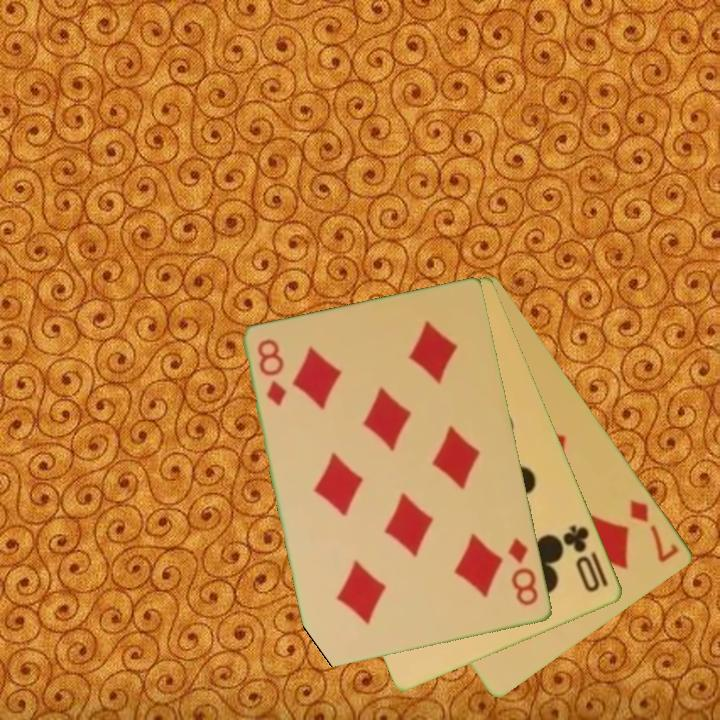10c: (559, 522, 612, 596)
7d: (626, 495, 682, 566)
8d: (505, 535, 542, 609), (254, 335, 290, 409)
